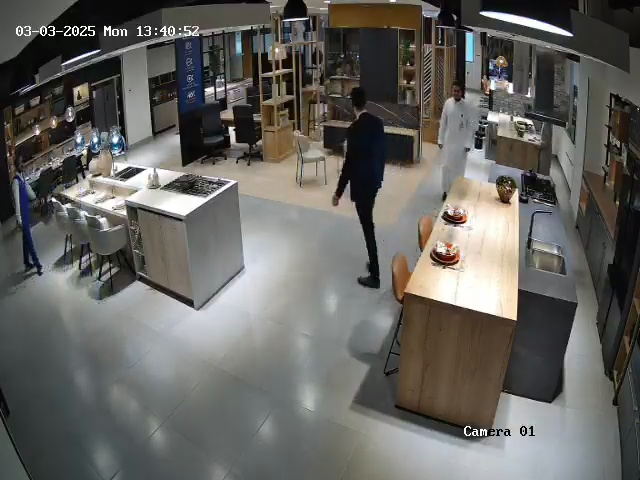employee: (331, 86, 386, 289), (3, 148, 55, 278)
male: (437, 81, 479, 202)
